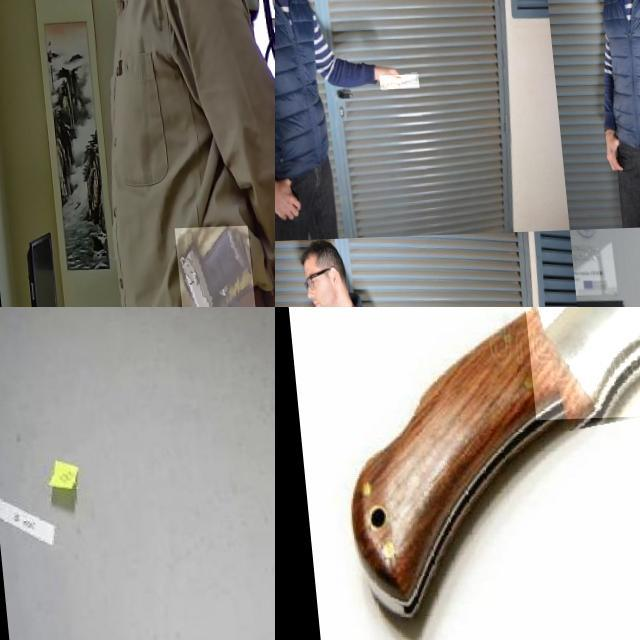-: (376, 76, 416, 90)
gun-knife-thesis - v11 Yolov5 augmented: (166, 227, 247, 307)
